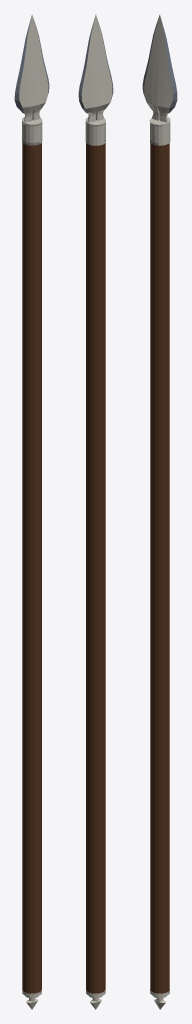
File: metal_spear.glb
3 views of the same model, side by side, from view 1: azimuth 30°, elevation 25°; view 2: azimuth 210°, elevation 25°; view 3: azimuth 330°, elevation 25° (orthographic).
Visible parts, largest first — view 1: Handle; view 2: Handle; view 3: Handle.
Part boxes in pixels (x1,y1,x2,y2): Handle: (14,14,49,1009); Handle: (78,14,113,1009); Handle: (142,14,177,1009).
Size of the model in its own units: 0.0363 by 1 by 0.0206.
